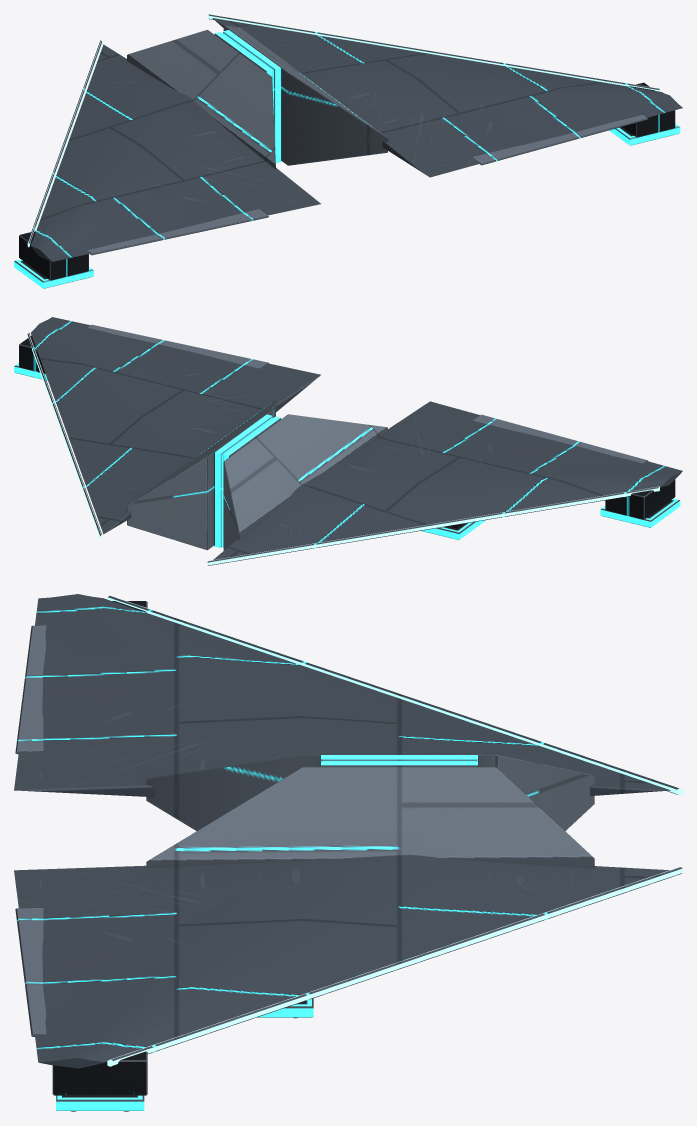
Rendered from ala_delta_t3.fbx.
The picture shows the model from 3 angles, top to bottom: view 1: azimuth 30°, elevation 25°; view 2: azimuth 150°, elevation 25°; view 3: azimuth 270°, elevation 25°; orthographic projection. The views are drawn at different scales.
Parts seen in each view (by area): view 1: ala_delta_t3_izq, ala_delta_t3_der, ala_delta_t3_der_neon, ala_delta_t3_izq_neon; view 2: ala_delta_t3_izq, ala_delta_t3_der, ala_delta_t3_izq_neon, ala_delta_t3_der_neon; view 3: ala_delta_t3_der, ala_delta_t3_izq, ala_delta_t3_der_neon, ala_delta_t3_izq_neon.
Boxes of the visible parts, x1,y1,x2,y2 form: ala_delta_t3_izq: (14, 30, 320, 288); ala_delta_t3_der: (208, 14, 682, 177); ala_delta_t3_der_neon: (207, 14, 659, 91); ala_delta_t3_izq_neon: (27, 40, 102, 247); ala_delta_t3_izq: (207, 401, 682, 565); ala_delta_t3_der: (14, 317, 320, 550); ala_delta_t3_izq_neon: (207, 486, 659, 565); ala_delta_t3_der_neon: (27, 333, 102, 539); ala_delta_t3_der: (14, 761, 682, 1111); ala_delta_t3_izq: (14, 594, 678, 830); ala_delta_t3_der_neon: (107, 867, 682, 1066); ala_delta_t3_izq_neon: (107, 595, 682, 795).
Bounding box in the file's own units: 11.32 × 1.6 × 6.83.
